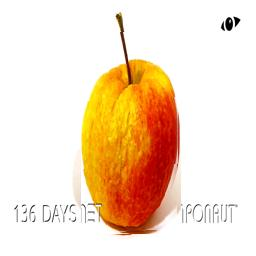Apple Semifresh: (81, 0, 180, 234)
